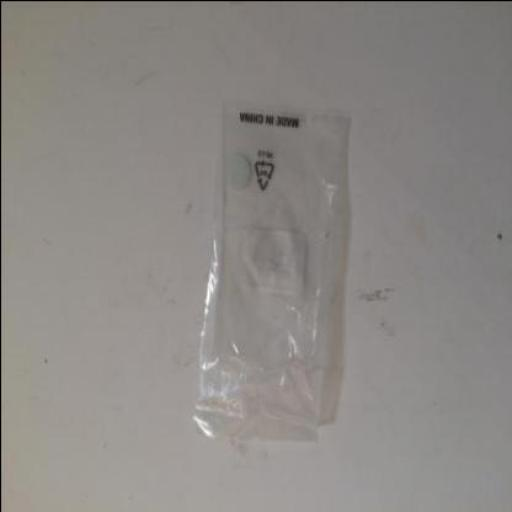plastic: (194, 105, 349, 441)
